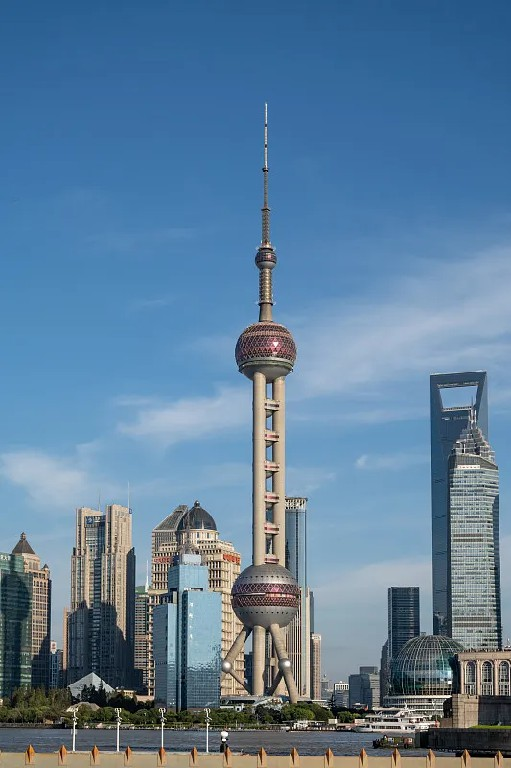Oriental: (219, 101, 302, 703)
